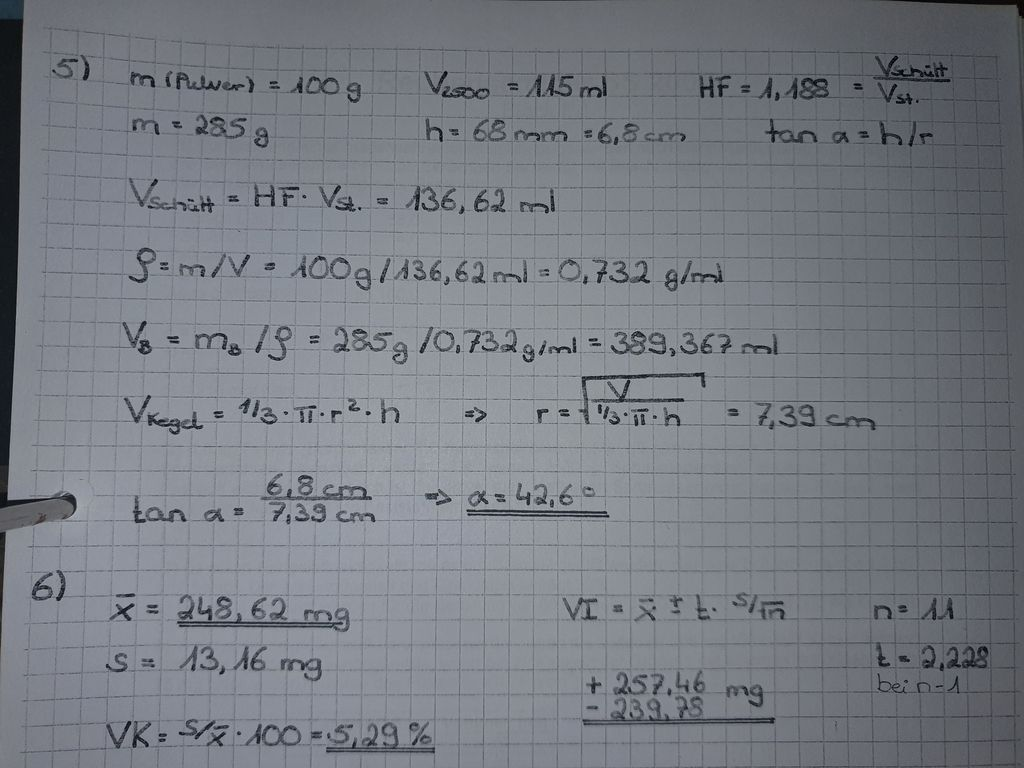equals: (719, 399, 745, 423), (604, 595, 628, 621), (205, 401, 230, 424), (264, 70, 287, 94), (142, 596, 164, 620), (575, 123, 598, 145), (225, 500, 248, 522), (580, 330, 604, 351), (501, 75, 523, 97), (223, 185, 246, 206), (161, 329, 184, 350), (134, 652, 158, 672), (165, 115, 186, 135), (371, 191, 392, 211), (261, 253, 281, 274), (304, 330, 326, 349), (553, 401, 573, 421), (444, 123, 466, 141), (853, 124, 873, 143), (490, 485, 509, 505), (154, 725, 172, 746), (307, 722, 325, 743), (849, 75, 866, 97), (894, 597, 911, 619), (895, 648, 916, 665), (533, 263, 552, 281), (156, 257, 175, 273), (733, 79, 753, 93)
equation: (113, 305, 787, 363), (124, 235, 738, 293), (515, 372, 891, 437), (124, 171, 573, 221), (96, 698, 442, 756), (108, 375, 410, 441), (121, 468, 386, 532), (690, 44, 969, 102), (94, 578, 363, 631), (405, 109, 707, 153), (546, 578, 798, 630), (112, 56, 378, 104), (757, 102, 950, 165), (96, 638, 330, 689), (408, 60, 621, 107), (126, 105, 287, 156), (461, 470, 618, 512), (862, 636, 996, 672), (859, 591, 968, 628)
fraction: (330, 316, 579, 363), (288, 244, 531, 288), (256, 472, 382, 526), (188, 319, 297, 361), (869, 51, 953, 103), (177, 247, 257, 282), (877, 109, 938, 153)
term: (170, 584, 355, 632), (233, 383, 404, 434), (576, 369, 710, 430), (607, 320, 782, 361), (551, 250, 731, 287), (628, 586, 790, 625), (169, 644, 325, 684), (401, 180, 559, 214), (126, 61, 260, 98), (172, 713, 307, 748), (250, 178, 366, 217), (128, 483, 227, 527), (749, 398, 880, 431), (118, 388, 205, 435), (324, 713, 437, 749), (128, 175, 220, 216), (511, 474, 608, 511), (597, 115, 698, 150), (526, 68, 616, 103), (190, 112, 278, 147), (469, 116, 571, 146), (289, 63, 365, 102), (418, 63, 493, 102), (763, 115, 850, 147), (756, 71, 833, 102), (100, 709, 153, 750), (920, 641, 989, 670), (102, 584, 138, 625), (116, 312, 150, 355), (557, 591, 601, 623), (127, 243, 158, 285), (920, 598, 961, 625), (696, 69, 729, 100), (102, 647, 134, 676), (130, 110, 163, 138), (419, 114, 444, 148), (462, 479, 493, 506), (869, 640, 893, 668), (868, 598, 895, 622), (529, 403, 550, 424)
